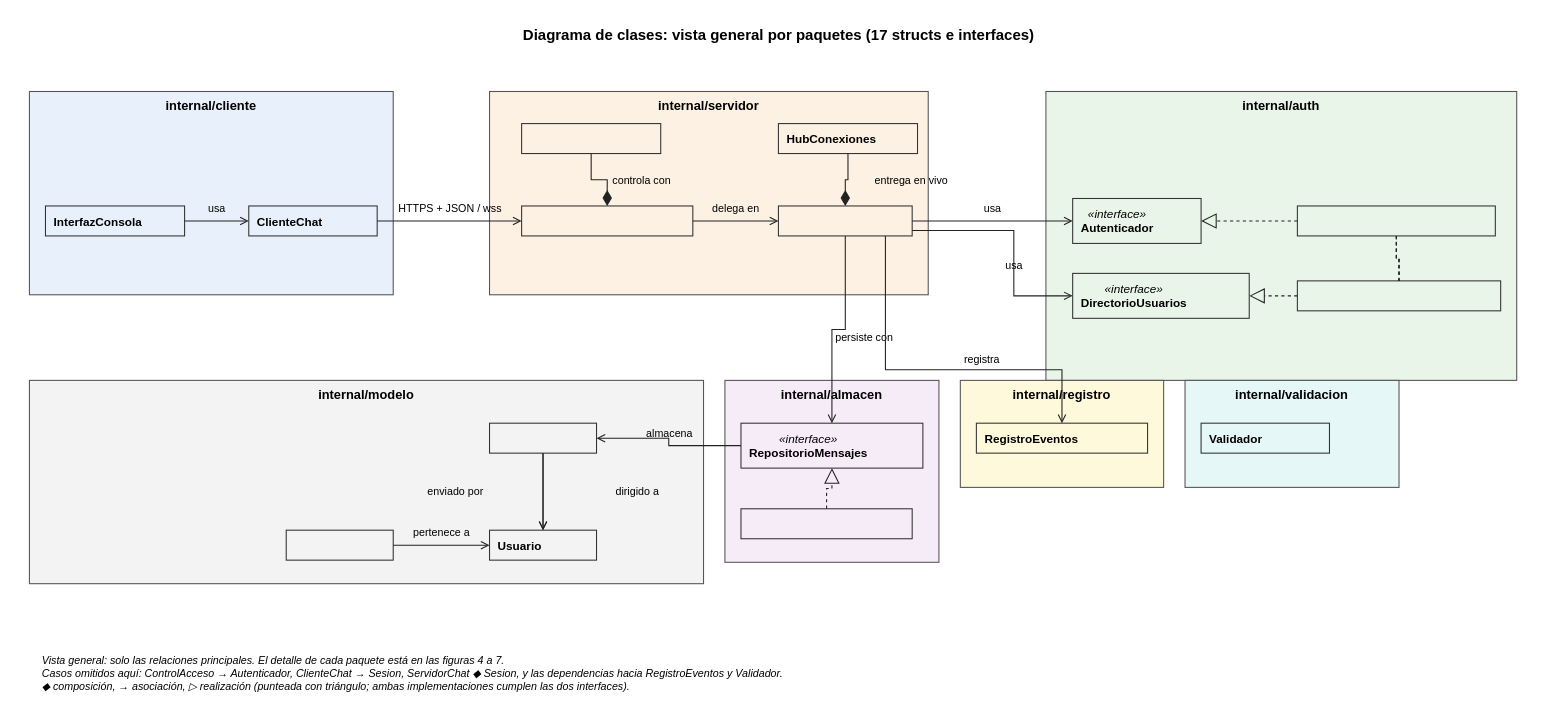
Image size: 1556x712. Some labels were removed from this diagram. The shapes that lost their labels are listed below. From the top down, each one's centre as x and y in pixels, then its label:
the point at 591,138: ControlAcceso
the point at 607,220: ManejadoresHTTP
the point at 844,220: ServidorChat
the point at 1395,220: AutenticadorFastAPI
the point at 1398,295: AutenticadorSimulado
the point at 542,437: Mensaje
the point at 826,523: RepositorioSQLite
the point at 339,544: Sesion
